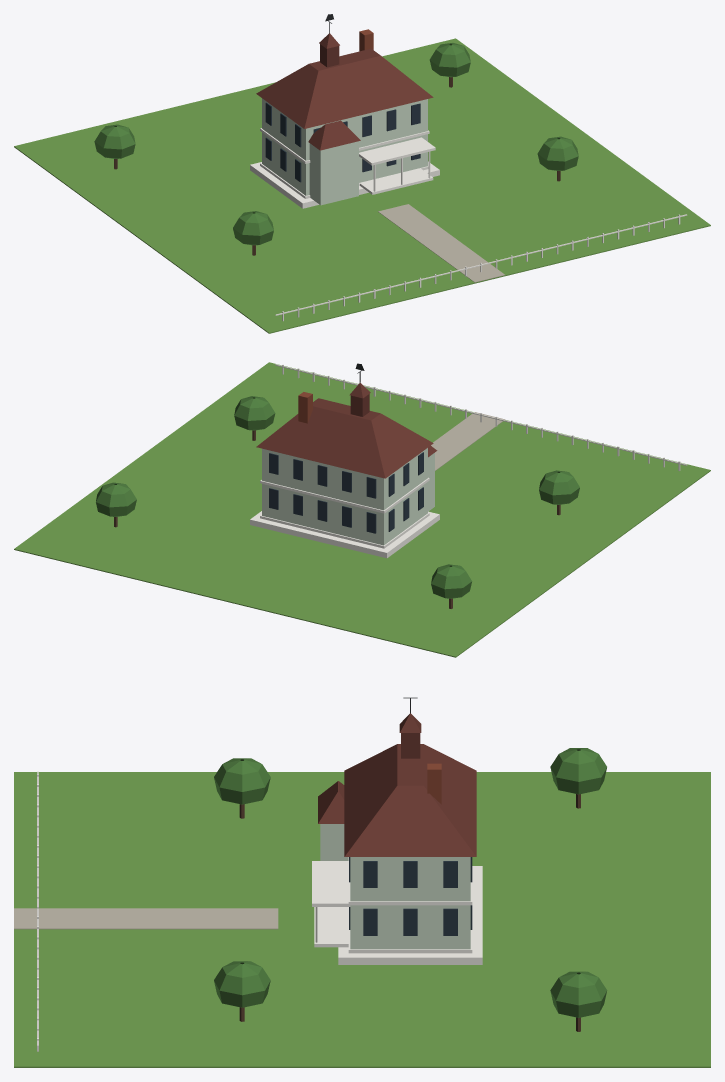
Rendered from western_house.glb.
The picture shows the model from 3 angles, top to bottom: view 1: azimuth 30°, elevation 25°; view 2: azimuth 150°, elevation 25°; view 3: azimuth 270°, elevation 25°; orthographic projection. The views are drawn at different scales.
Parts seen in each view (by area): view 1: Western_static; view 2: Western_static; view 3: Western_static.
Part boxes in pixels (box(x1,y1,x2,y2)): Western_static: box(14, 22, 710, 333); Western_static: box(14, 362, 710, 657); Western_static: box(14, 698, 710, 1067).
Bounding box in the file's own units: 58 × 20.5 × 58.
